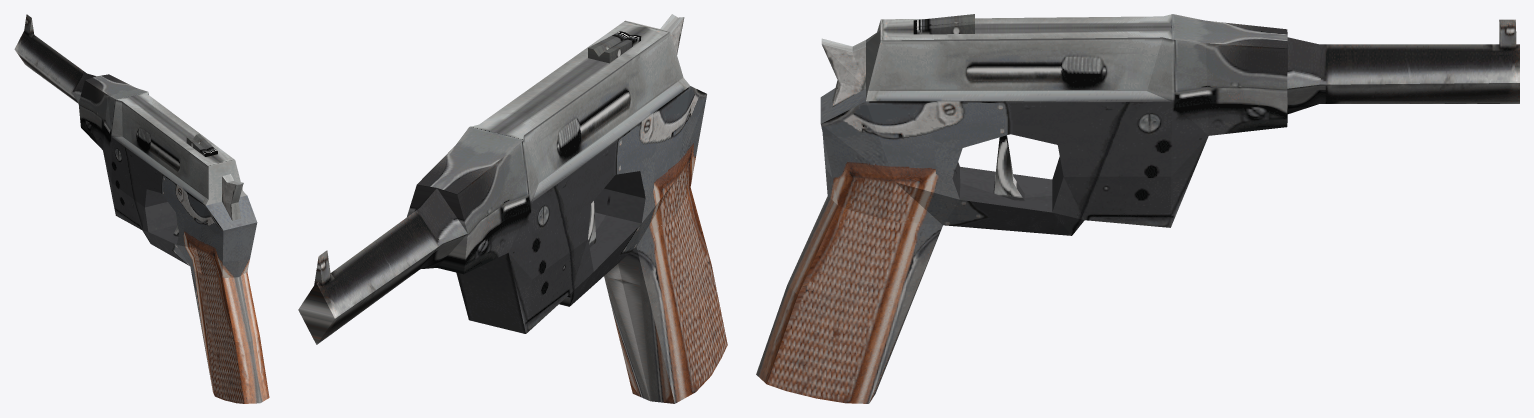
The model's file is bergther.glb.
3 views of the same model, side by side, from view 1: azimuth 30°, elevation 25°; view 2: azimuth 150°, elevation 25°; view 3: azimuth 270°, elevation 25° (orthographic). The views are drawn at different scales.
Parts seen in each view (by area): view 1: Bergther GS5; view 2: Bergther GS5; view 3: Bergther GS5.
Part boxes in pixels (x1,y1,x2,y2): Bergther GS5: (14,14,269,403); Bergther GS5: (298,14,727,403); Bergther GS5: (756,14,1519,403).
Size of the model in its own units: 0.0526 by 0.2784 by 0.514.
1 material, 1 textured.
